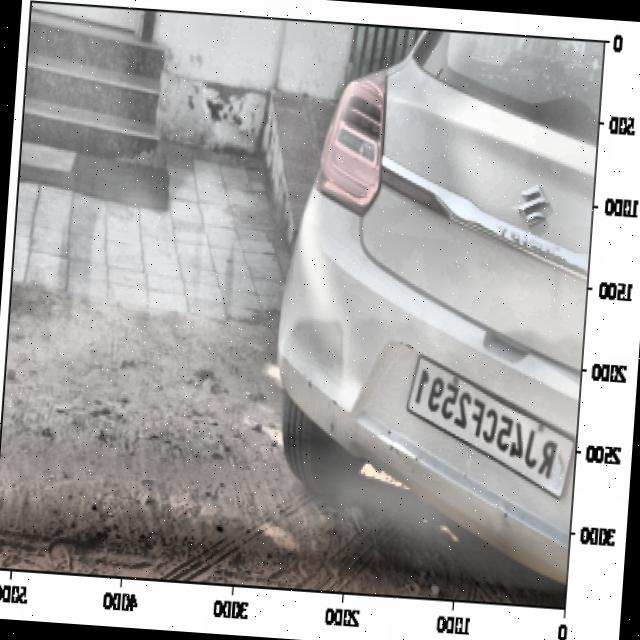license_plate: (404, 364, 566, 487)
